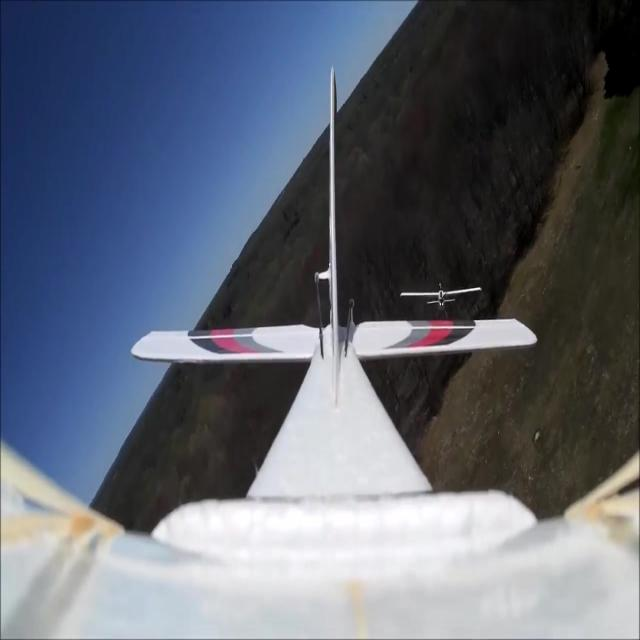iha: (433, 285, 450, 305)
